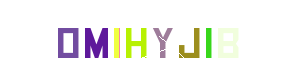0: (29, 0, 109, 80)
1: (151, 0, 231, 80)
B: (168, 0, 248, 80)
H: (98, 0, 178, 80)
I: (95, 0, 175, 80)
J: (112, 0, 192, 80)
M: (56, 0, 136, 80)
Y: (102, 0, 182, 80)
